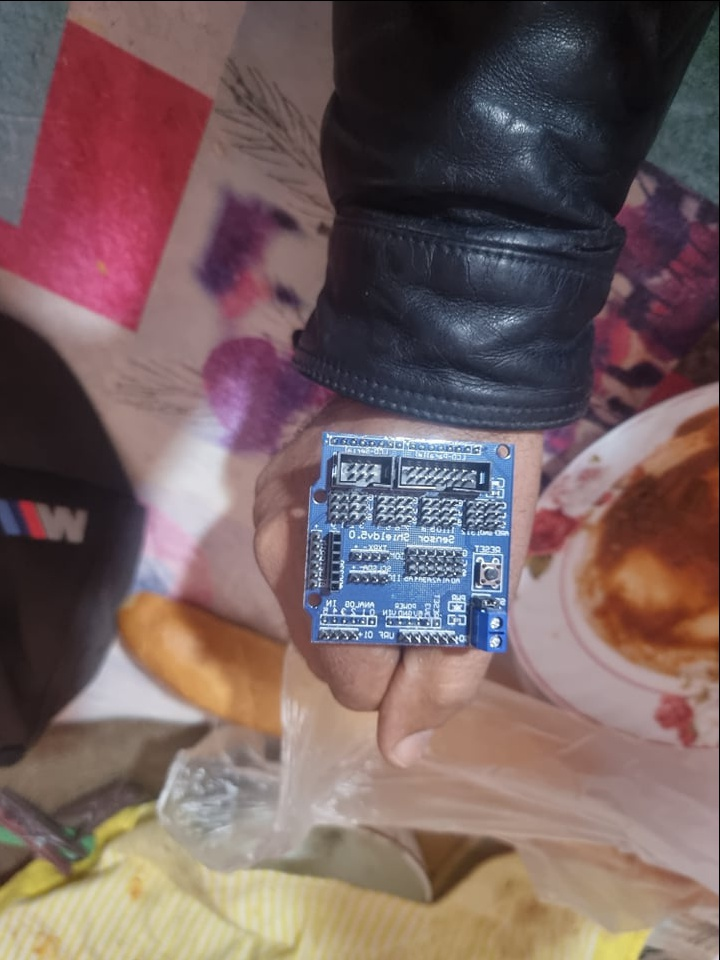5V EXPANSION: (302, 440, 517, 654)
